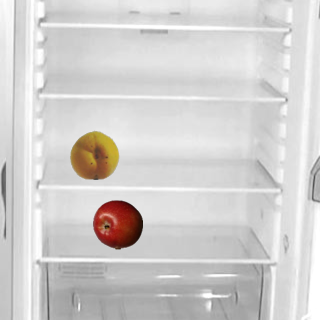Apple Braeburn: (92, 199, 142, 249)
Peach 2: (69, 129, 119, 179)
